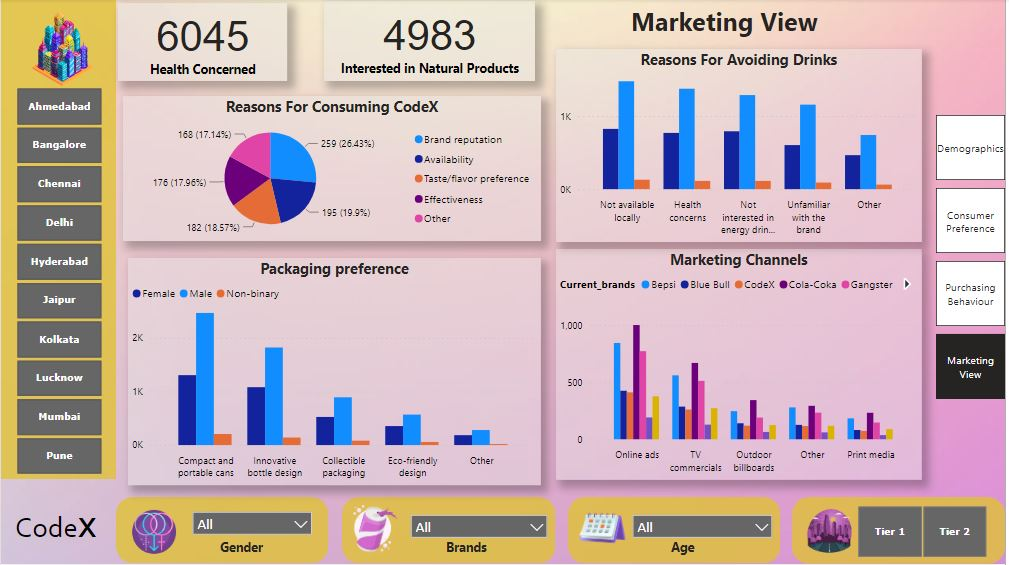

The page's visual inventory and layout, read from the dashboard file:
{"tool":"powerbi","page":{"name":"Marketing View","canvas":[1280,720],"ordinal":3},"visuals":[{"type":"shape","box":[1008.4,634.9,271.6,85.4],"z":0},{"type":"shape","box":[434.6,635.4,272.1,84.5],"z":1000},{"type":"shape","box":[722.6,635.4,270.8,84.5],"z":2000},{"type":"shape","box":[146.6,635.4,270.8,84.5],"z":3000},{"type":"shape","box":[0,0,146.9,611.9],"z":4000},{"type":"slicer","fields":{"Values":["dim_repondents.Gender"]},"box":[219.3,643.9,181.7,56.4],"z":5000},{"type":"slicer","fields":{"Values":["fact_survey_responses.Current_brands"]},"box":[512.3,653.3,194.3,48.6],"z":6000},{"type":"slicer","fields":{"Values":["dim_cities.Tier"]},"box":[1066.9,645.5,213.1,72.1],"z":7000},{"type":"slicer","title":".","fields":{"Values":["dim_repondents.Age"]},"box":[780.2,653.3,208.4,37.6],"z":8000},{"type":"card","fields":{"Values":["fact_survey_responses.Interested in Natural Products"]},"box":[412,3.1,269.5,101.8],"z":9000},{"type":"card","fields":{"Values":["fact_survey_responses.Health Concerned"]},"box":[148.8,4.7,216.2,98.7],"z":10000},{"type":"clusteredColumnChart","title":"Packaging preference","fields":{"Y":["CountNonNull(fact_survey_responses.Respondent_ID)"],"Category":["fact_survey_responses.Packaging_preference"],"Series":["dim_repondents.Gender"]},"box":[161.4,330.6,526.4,289.8],"z":12000},{"type":"slicer","fields":{"Values":["dim_cities.City"]},"box":[0,106.8,146.9,505.1],"z":13000},{"type":"image","box":[149.3,645.9,92.5,66],"z":14000},{"type":"image","box":[9.9,0,136.6,123.9],"z":15000},{"type":"image","box":[401.4,632.4,146.5,84.5],"z":16000},{"type":"image","box":[722.5,621.1,87.3,98.6],"z":17000},{"type":"image","box":[988.7,643.7,132.4,69],"z":18000},{"type":"textbox","box":[274.2,683.1,90.9,37.6],"z":20000},{"type":"textbox","box":[562.4,683.1,70.5,37.6],"z":21000},{"type":"textbox","box":[849.2,683.1,70.5,37.6],"z":22000},{"type":"textbox","box":[12.5,645.5,142.6,68.9],"z":23000},{"type":"textbox","box":[797.5,1.6,346.2,61.1],"z":24000},{"type":"clusteredColumnChart","title":"Reasons  For Avoiding Drinks","fields":{"Y":["CountNonNull(fact_survey_responses.Respondent_ID)"],"Category":["fact_survey_responses.Reasons_preventing_trying"],"Series":["dim_repondents.Gender"]},"box":[707.2,63.1,466.1,245.7],"z":26000},{"type":"clusteredColumnChart","title":"Marketing Channels","fields":{"Y":["CountNonNull(fact_survey_responses.Respondent_ID)"],"Category":["fact_survey_responses.Marketing_channels"],"Series":["fact_survey_responses.Current_brands"]},"box":[707.2,319.1,466.1,293.9],"z":27000},{"type":"pieChart","title":"Reasons For Consuming CodeX","fields":{"Y":["fact_survey_responses.CodeX Consumers"],"Category":["fact_survey_responses.Reasons_for_choosing_brands"]},"box":[155.1,123.8,532.7,184.9],"z":28001},{"type":"pageNavigator","box":[1191.5,147.9,88.5,364.6],"z":28002}]}

Visuals, with their boxes in screenshot pixels (x1, y1, x2, y2), scaled from the page's 1280x720 canvas onto the 1009x565 screenshot:
shape: {"left": 795, "top": 498, "right": 1008, "bottom": 564}
shape: {"left": 343, "top": 499, "right": 557, "bottom": 564}
shape: {"left": 570, "top": 499, "right": 783, "bottom": 564}
shape: {"left": 116, "top": 499, "right": 329, "bottom": 564}
shape: {"left": 0, "top": 0, "right": 116, "bottom": 480}
slicer - dim_repondents.Gender: {"left": 173, "top": 505, "right": 316, "bottom": 550}
slicer - fact_survey_responses.Current_brands: {"left": 404, "top": 513, "right": 557, "bottom": 551}
slicer - dim_cities.Tier: {"left": 841, "top": 507, "right": 1008, "bottom": 563}
"." slicer: {"left": 615, "top": 513, "right": 779, "bottom": 542}
card - fact_survey_responses.Interested in Natural Products: {"left": 325, "top": 2, "right": 537, "bottom": 82}
card - fact_survey_responses.Health Concerned: {"left": 117, "top": 4, "right": 288, "bottom": 81}
"Packaging preference" clusteredColumnChart: {"left": 127, "top": 259, "right": 542, "bottom": 487}
slicer - dim_cities.City: {"left": 0, "top": 84, "right": 116, "bottom": 480}
image: {"left": 118, "top": 507, "right": 191, "bottom": 559}
image: {"left": 8, "top": 0, "right": 115, "bottom": 97}
image: {"left": 316, "top": 496, "right": 432, "bottom": 563}
image: {"left": 570, "top": 487, "right": 638, "bottom": 564}
image: {"left": 779, "top": 505, "right": 884, "bottom": 559}
textbox: {"left": 216, "top": 536, "right": 288, "bottom": 564}
textbox: {"left": 443, "top": 536, "right": 499, "bottom": 564}
textbox: {"left": 669, "top": 536, "right": 725, "bottom": 564}
textbox: {"left": 10, "top": 507, "right": 122, "bottom": 561}
textbox: {"left": 629, "top": 1, "right": 902, "bottom": 49}
"Reasons  For Avoiding Drinks" clusteredColumnChart: {"left": 557, "top": 50, "right": 925, "bottom": 242}
"Marketing Channels" clusteredColumnChart: {"left": 557, "top": 250, "right": 925, "bottom": 481}
"Reasons For Consuming CodeX" pieChart: {"left": 122, "top": 97, "right": 542, "bottom": 242}
pageNavigator: {"left": 939, "top": 116, "right": 1008, "bottom": 402}
